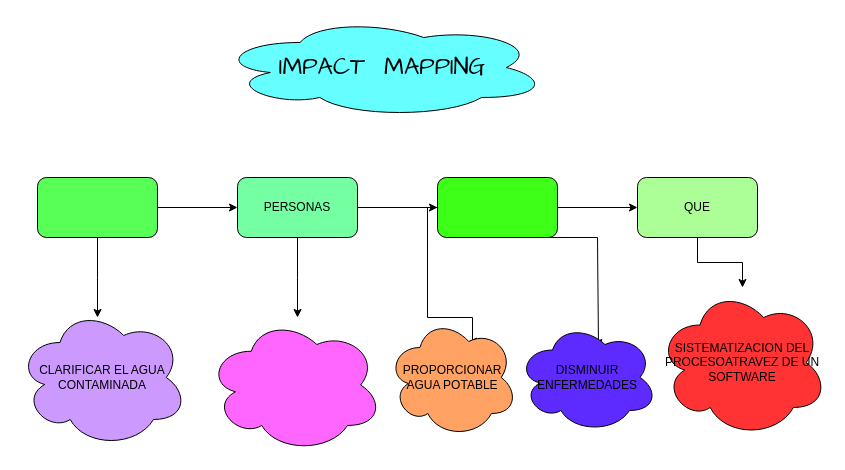
This 845x470 diagram has some shape labels left out. Here are the shapes that lost their labels. From the top down, the centre of each, then its label:
At [97,207]: "PARA QUÉ".
At [497,207]: "IMPACTO".
At [294,384]: "POBLACIONES VULNERABLES".
